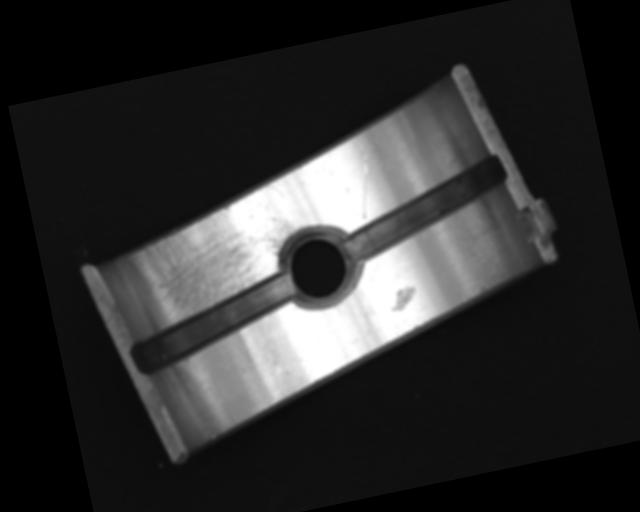bruise: (387, 283, 421, 312)
gap: (335, 154, 517, 265), (121, 272, 306, 378)
hole: (274, 218, 364, 315)
nick: (349, 154, 379, 220)
scratch: (121, 182, 312, 336)
